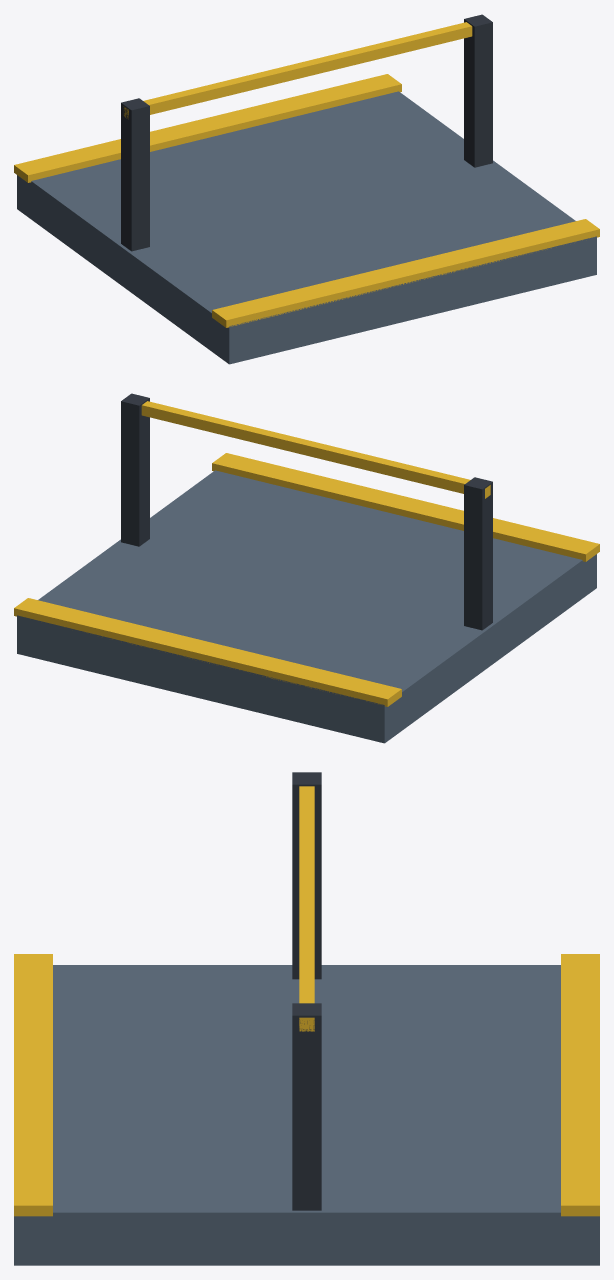
The model's file is interior_moving_lift.glb.
3 renders of one model, top to bottom at view 1: azimuth 30°, elevation 25°; view 2: azimuth 150°, elevation 25°; view 3: azimuth 270°, elevation 25°, orthographic. The views are drawn at different scales.
Visible parts, largest first — view 1: interior_moving_lift_steel, interior_moving_lift_yellow, interior_moving_lift_steelDark; view 2: interior_moving_lift_steel, interior_moving_lift_yellow, interior_moving_lift_steelDark; view 3: interior_moving_lift_steel, interior_moving_lift_yellow, interior_moving_lift_steelDark.
Part boxes in pixels (x1,y1,x2,y2): interior_moving_lift_steel: (17, 91, 596, 364); interior_moving_lift_yellow: (14, 22, 599, 327); interior_moving_lift_steelDark: (121, 14, 492, 251); interior_moving_lift_steel: (17, 470, 596, 743); interior_moving_lift_yellow: (14, 401, 599, 706); interior_moving_lift_steelDark: (121, 393, 492, 630); interior_moving_lift_steel: (14, 965, 599, 1265); interior_moving_lift_yellow: (14, 786, 599, 1216); interior_moving_lift_steelDark: (292, 772, 321, 1210).
Size of the model in its own units: 3.05 by 1.4 by 3.
